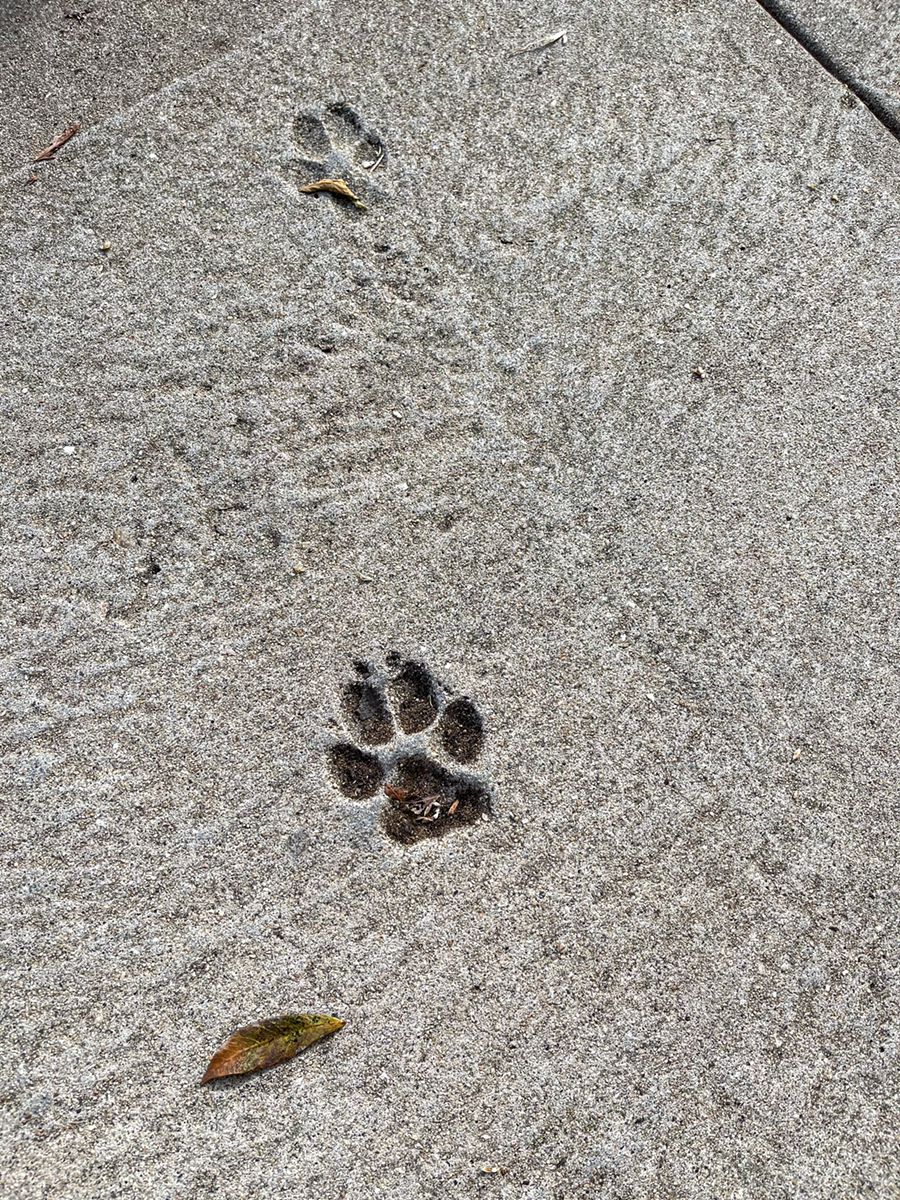chien: (333, 664, 498, 850)
